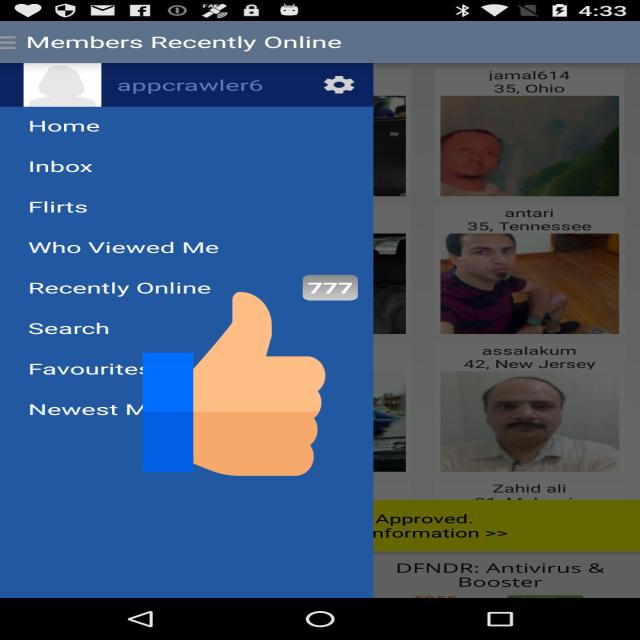privacy zuckering: (143, 288, 325, 480)
